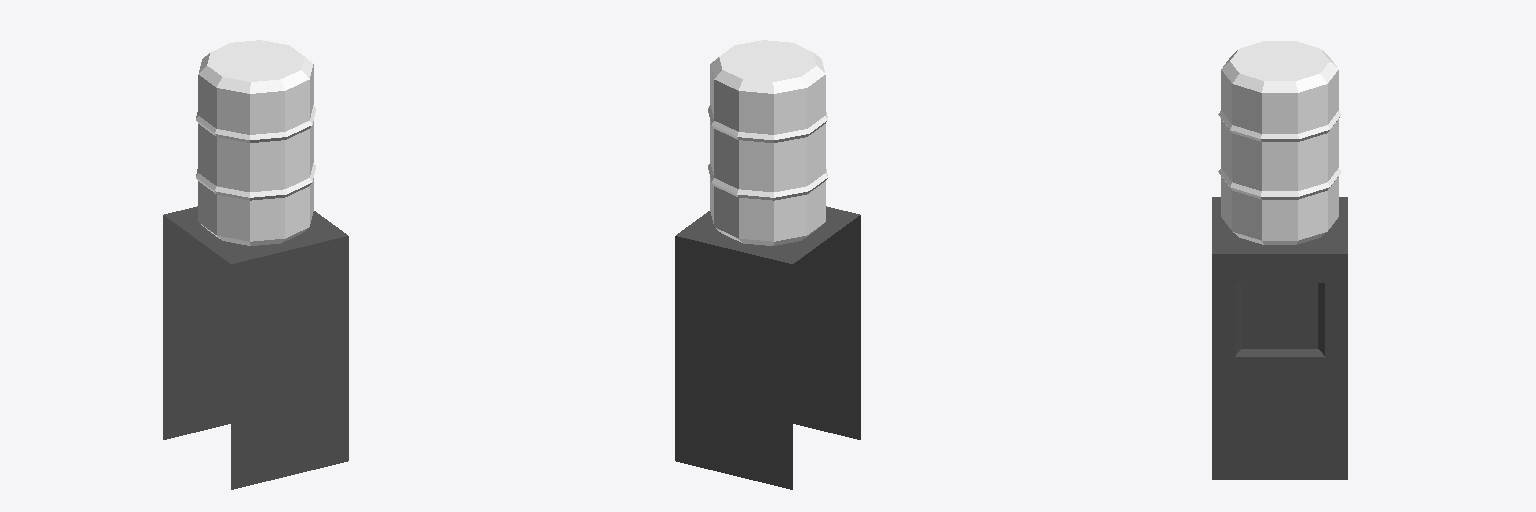
File: prop_watercooler_01.obj
3 renders of one model, left to right at view 1: azimuth 30°, elevation 25°; view 2: azimuth 150°, elevation 25°; view 3: azimuth 270°, elevation 25°, orthographic.
Parts seen in each view (by area): view 1: Cube; view 2: Cube; view 3: Cube.
Part boxes in pixels (x1,y1,x2,y2): Cube: (163,40,348,489); Cube: (675,40,860,489); Cube: (1212,41,1347,479).
Bounding box in the file's own units: 1.5 × 4.75 × 1.5.